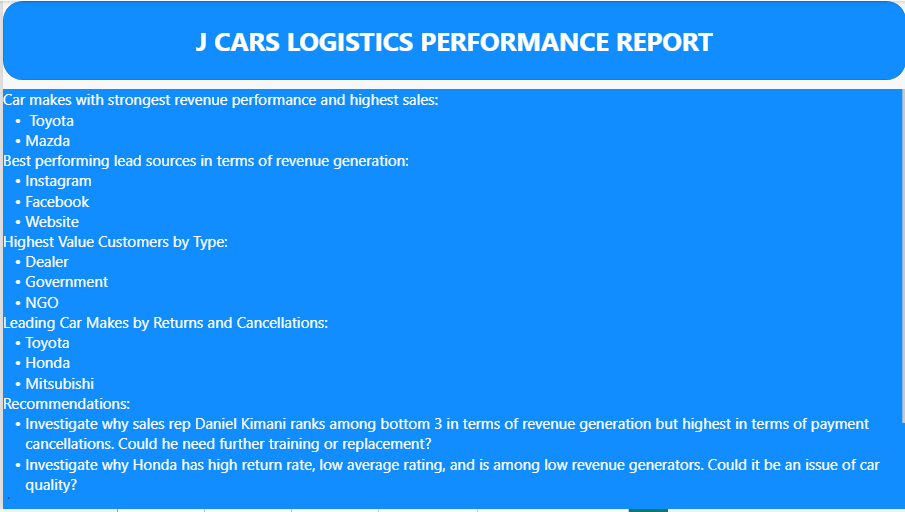

Layout of this report page (visuals, bound fields, positions):
{"tool":"powerbi","page":{"name":"Performance Report","canvas":[1920,1080],"ordinal":4},"visuals":[{"type":"shape","box":[0,0,1919.8,168],"z":0},{"type":"textbox","box":[0,187.1,1919.8,892.9],"z":1000}]}

Visuals, with their boxes in screenshot pixels (x1, y1, x2, y2), scaled from the page's 1920x1080 canvas onto the 905x512 screenshot:
shape: 0/0/904/80
textbox: 0/89/904/511
